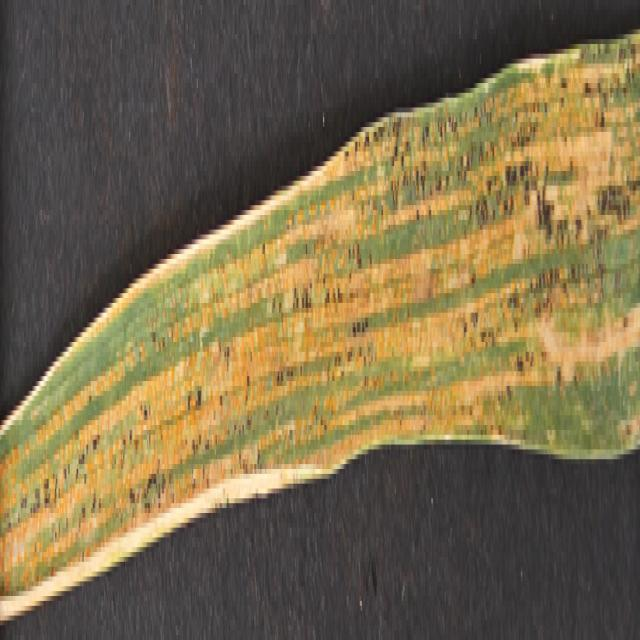leaf rust: (0, 44, 638, 606)
